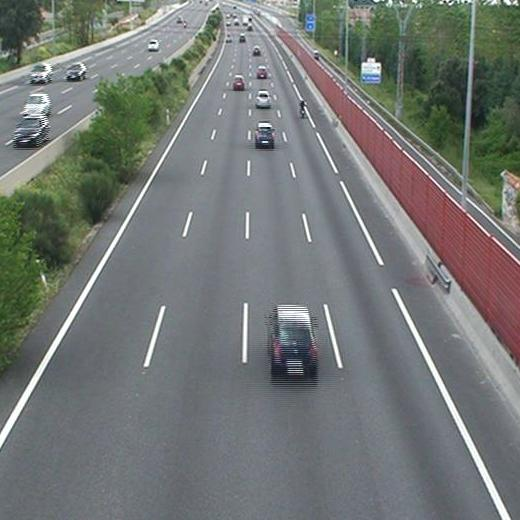car: (269, 306, 316, 375), (256, 123, 274, 146), (256, 91, 271, 107), (233, 75, 245, 89), (257, 67, 267, 77), (253, 47, 260, 55)
motorcycle: (299, 98, 307, 121)
